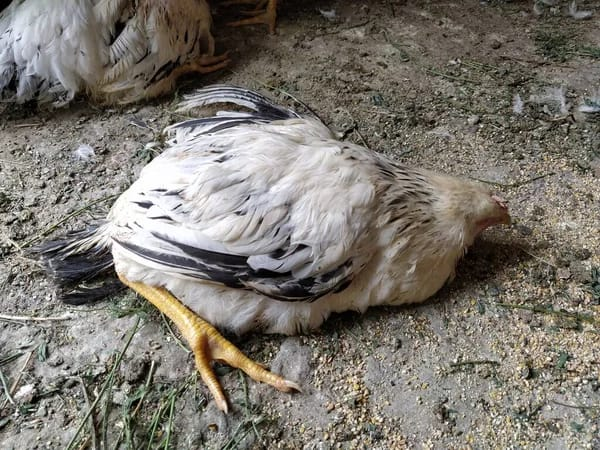Unhealthy: (92, 87, 516, 404)
